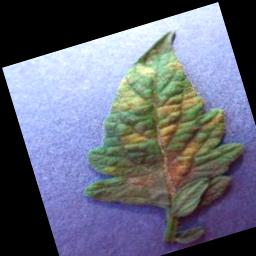Leaf_Mold: (46, 20, 255, 239)
